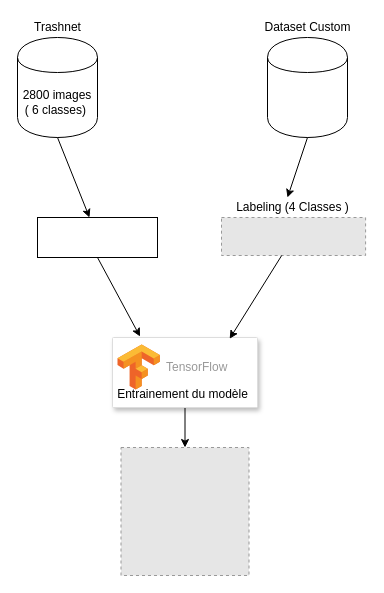
This 384x593 diagram has some shape labels left out. Grey dashed boxes stand in for pictures. Here are the shapes that lost their labels. From the top down, the centre of each, then its label:
At (307,87): "1000 images ( non labélisé)".
At (97,237): "Restructure Dataset en 4 Classes".
